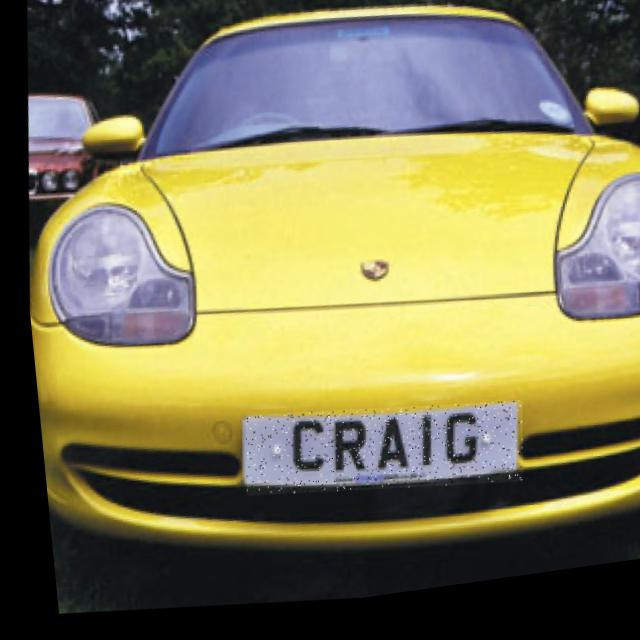license_plate: (230, 390, 518, 525)
